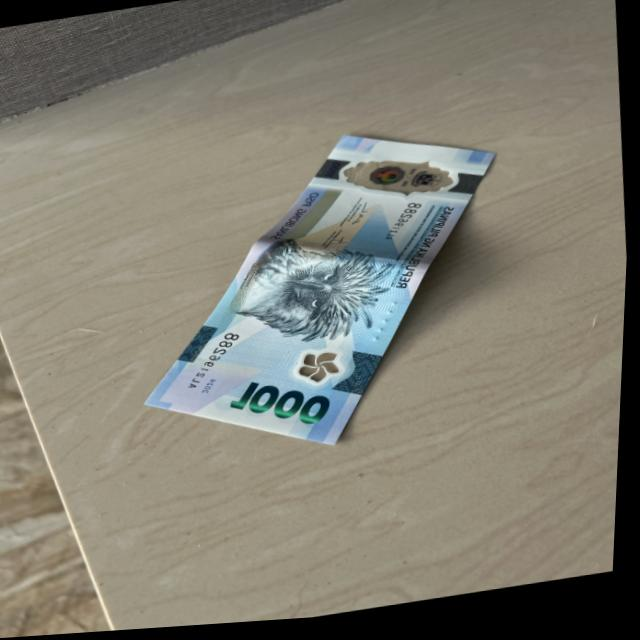clear_window: (339, 139, 457, 211)
eagle: (221, 238, 399, 356)
sampaguita: (295, 351, 346, 388)
